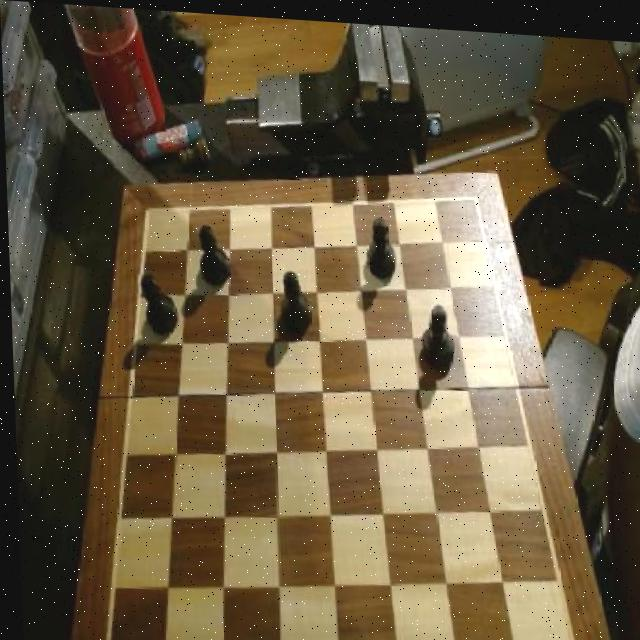black-knight: (414, 297, 456, 369), (137, 270, 178, 338), (275, 262, 311, 332), (192, 218, 230, 284), (363, 211, 398, 276)
